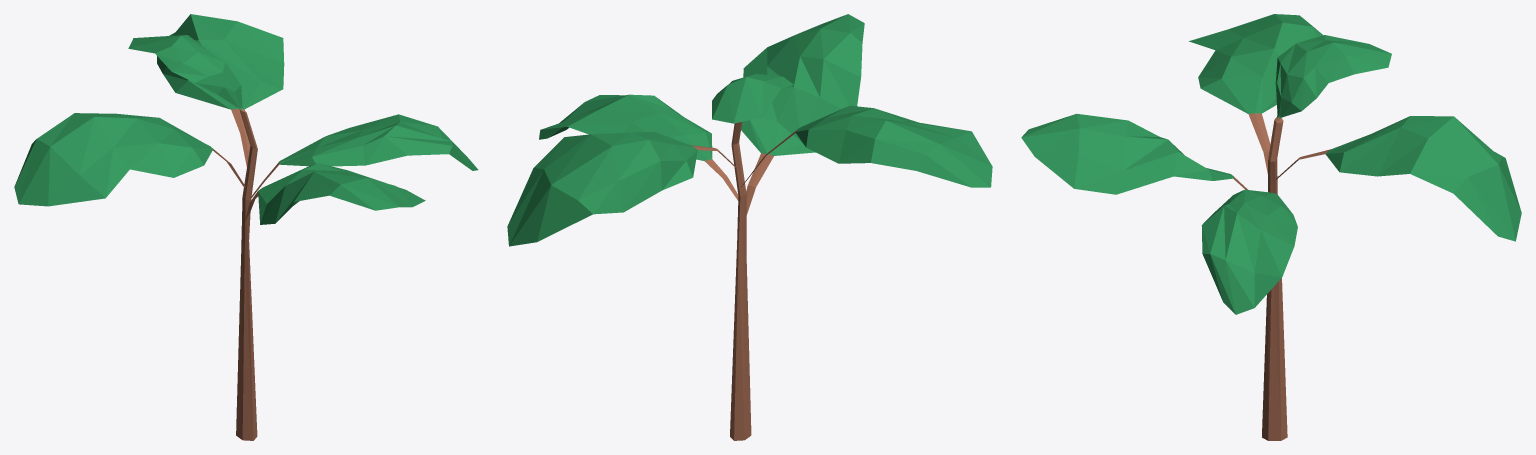
The model's file is banana_tree2.obj.
The picture shows the model from 3 angles, left to right: view 1: azimuth 30°, elevation 25°; view 2: azimuth 150°, elevation 25°; view 3: azimuth 270°, elevation 25°; orthographic projection. The views are drawn at different scales.
Bounding box in the file's own units: 6.84 × 5.62 × 6.74.
